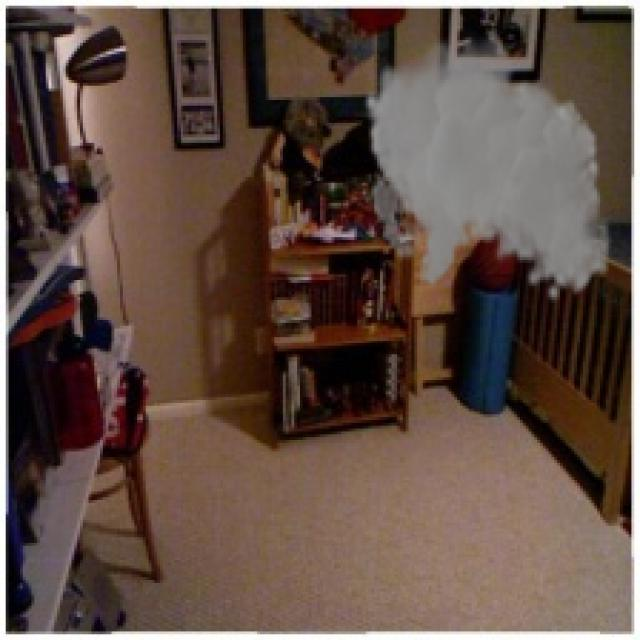smoke: (363, 26, 611, 303)
